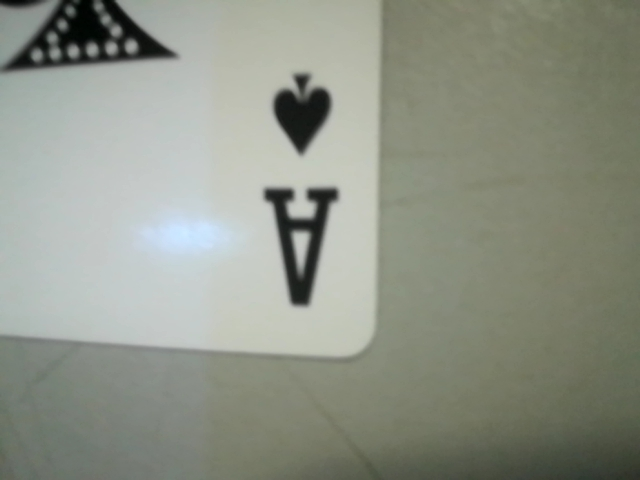ht a: (236, 54, 370, 320)
